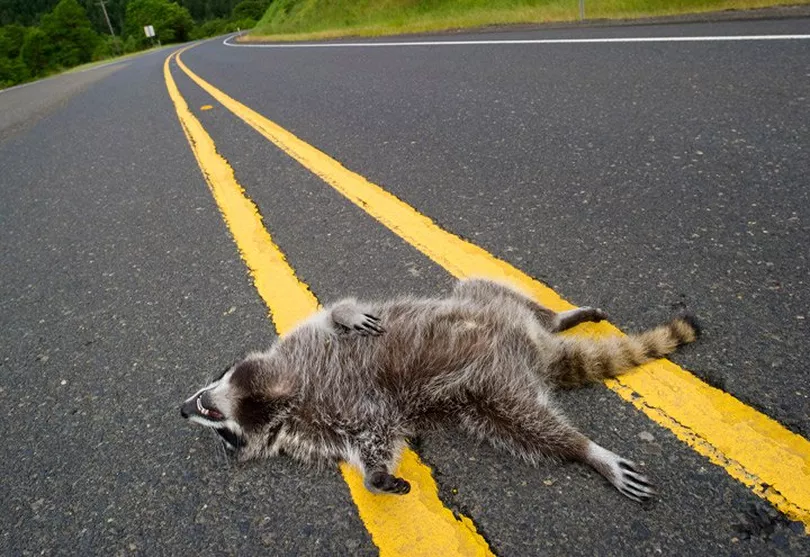raccoon: (176, 274, 699, 503)
